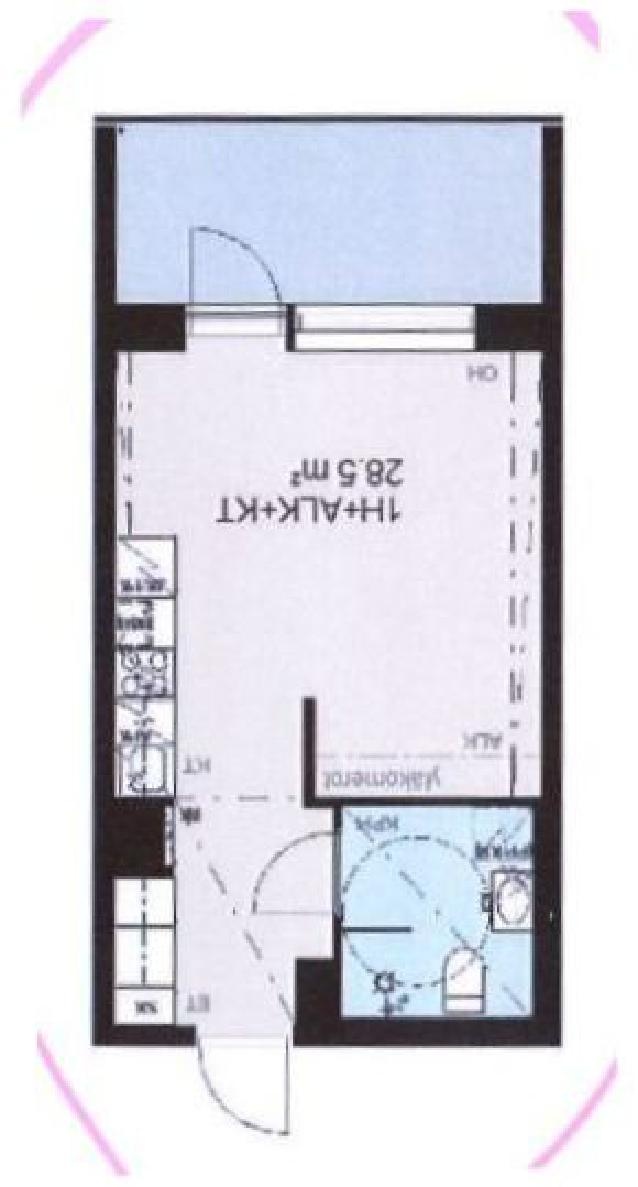door: (183, 215, 287, 334), (201, 1021, 304, 1139), (253, 828, 329, 922)
window: (297, 302, 478, 356)
zone: (119, 323, 531, 796), (119, 122, 549, 306), (121, 798, 348, 1022), (345, 806, 524, 1018)
